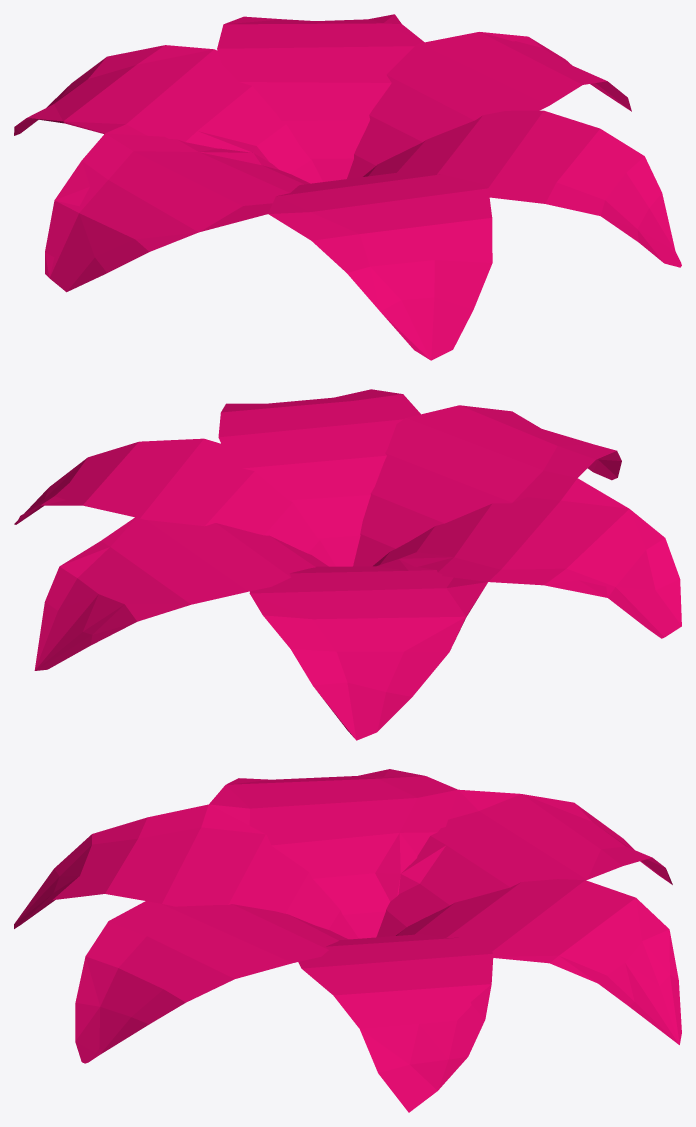
Rendered from FlorHP.fbx.
The picture shows the model from 3 angles, top to bottom: view 1: azimuth 30°, elevation 25°; view 2: azimuth 150°, elevation 25°; view 3: azimuth 270°, elevation 25°; orthographic projection.
Visible parts, largest first — view 1: PlaneHP; view 2: PlaneHP; view 3: PlaneHP.
Part boxes in pixels (x1,y1,x2,y2): PlaneHP: [14, 14, 681, 360]; PlaneHP: [14, 389, 681, 740]; PlaneHP: [14, 769, 681, 1112].
Size of the model in its own units: 209 by 30.36 by 197.
